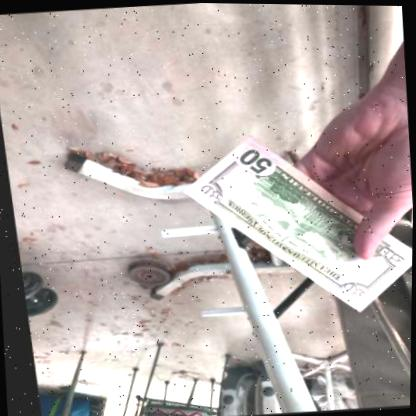dollar_back: (180, 134, 413, 312)
